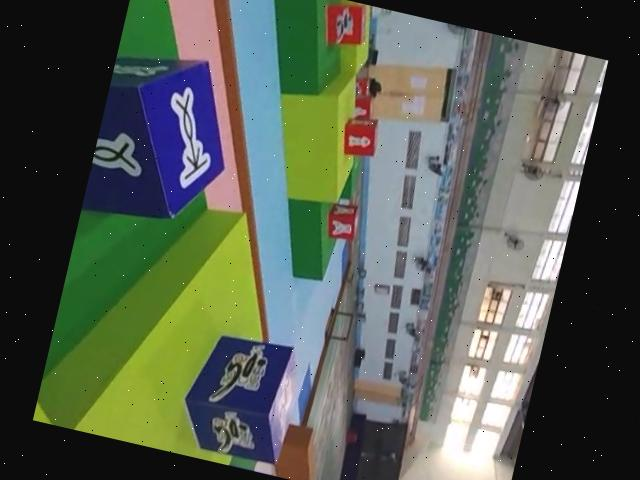R1 Blue: (172, 325, 305, 469)
R2 Real Blue: (82, 45, 242, 235)
